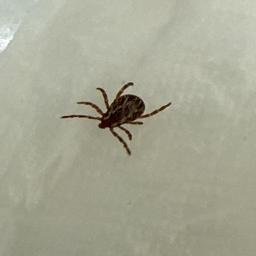Dermacentor variabilis: (63, 80, 173, 156)
